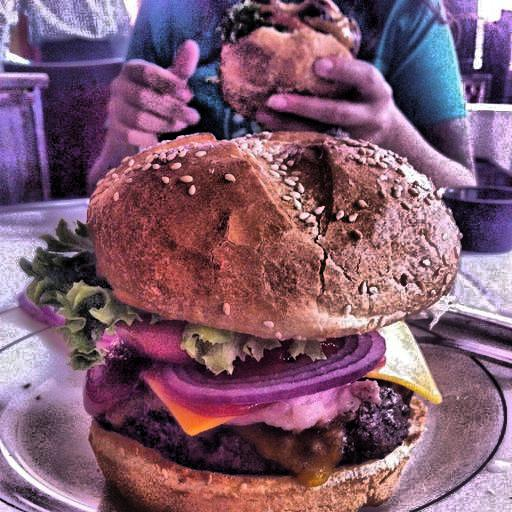burger: (81, 144, 488, 512)
